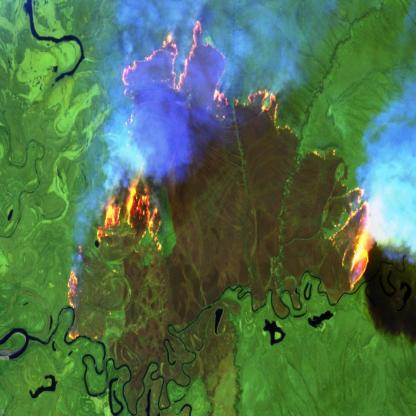fire: (58, 14, 388, 347)
